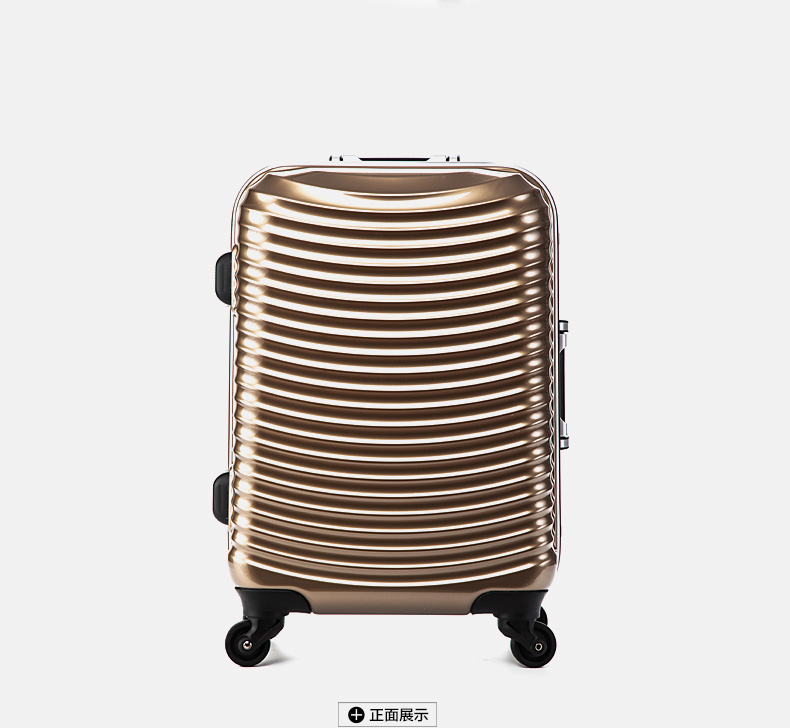luggage: (211, 151, 569, 668)
